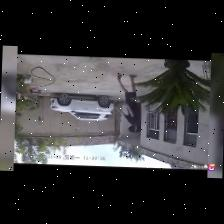person: (115, 74, 137, 131)
